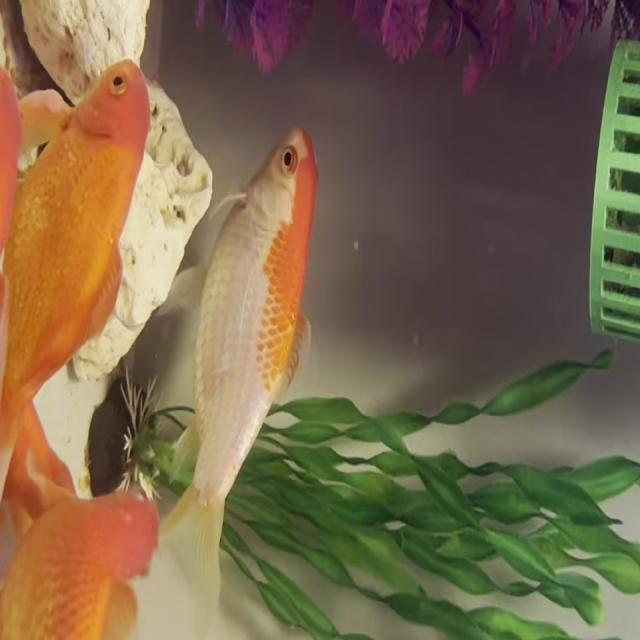fish: (163, 127, 322, 633), (0, 53, 153, 491), (0, 476, 165, 640)
